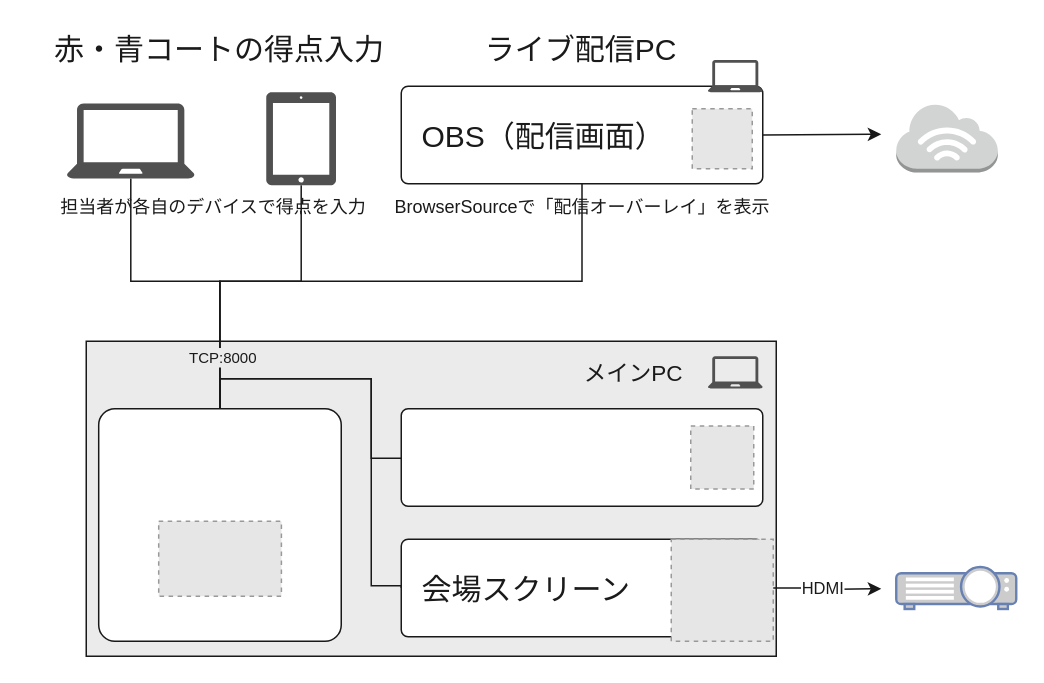
The diagram is 1044 pixels wide and 683 high, and some of its shapes have lost their labels. Grey dashed boxes stand in for pictures. Here are the shapes that lost their labels. From the top down, the box of each, then its label:
(400, 407, 763, 506): 進行管理（Admin）
(97, 407, 341, 641): サーバー
